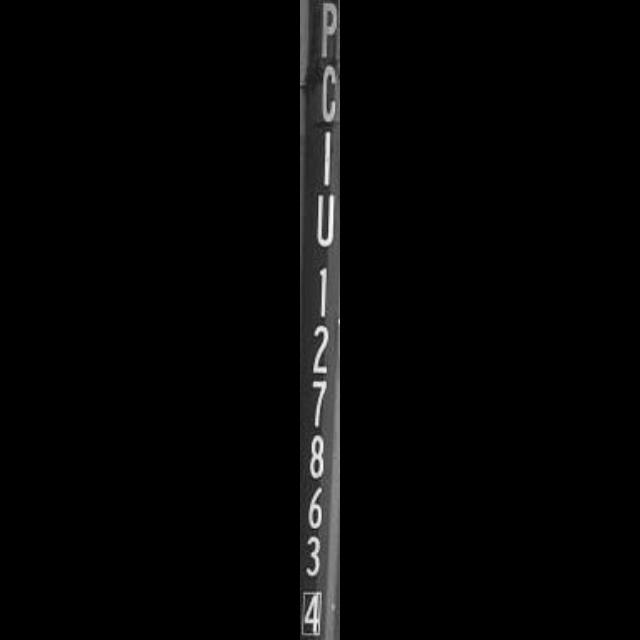1: (300, 260, 340, 328)
2: (300, 322, 340, 376)
3: (300, 530, 340, 584)
4: (300, 586, 336, 640)
6: (300, 481, 340, 531)
7: (300, 376, 340, 426)
8: (300, 430, 340, 480)
c: (312, 62, 340, 128)
i: (310, 125, 340, 187)
p: (310, 0, 340, 64)
u: (310, 184, 340, 250)
